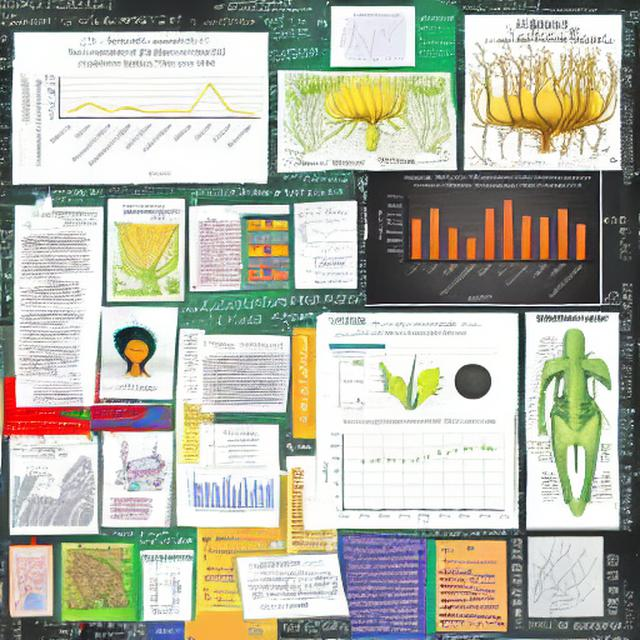Graph: (32, 45, 264, 179), (374, 173, 600, 304), (319, 414, 512, 527), (184, 465, 277, 517), (338, 8, 414, 65), (296, 220, 354, 255)
